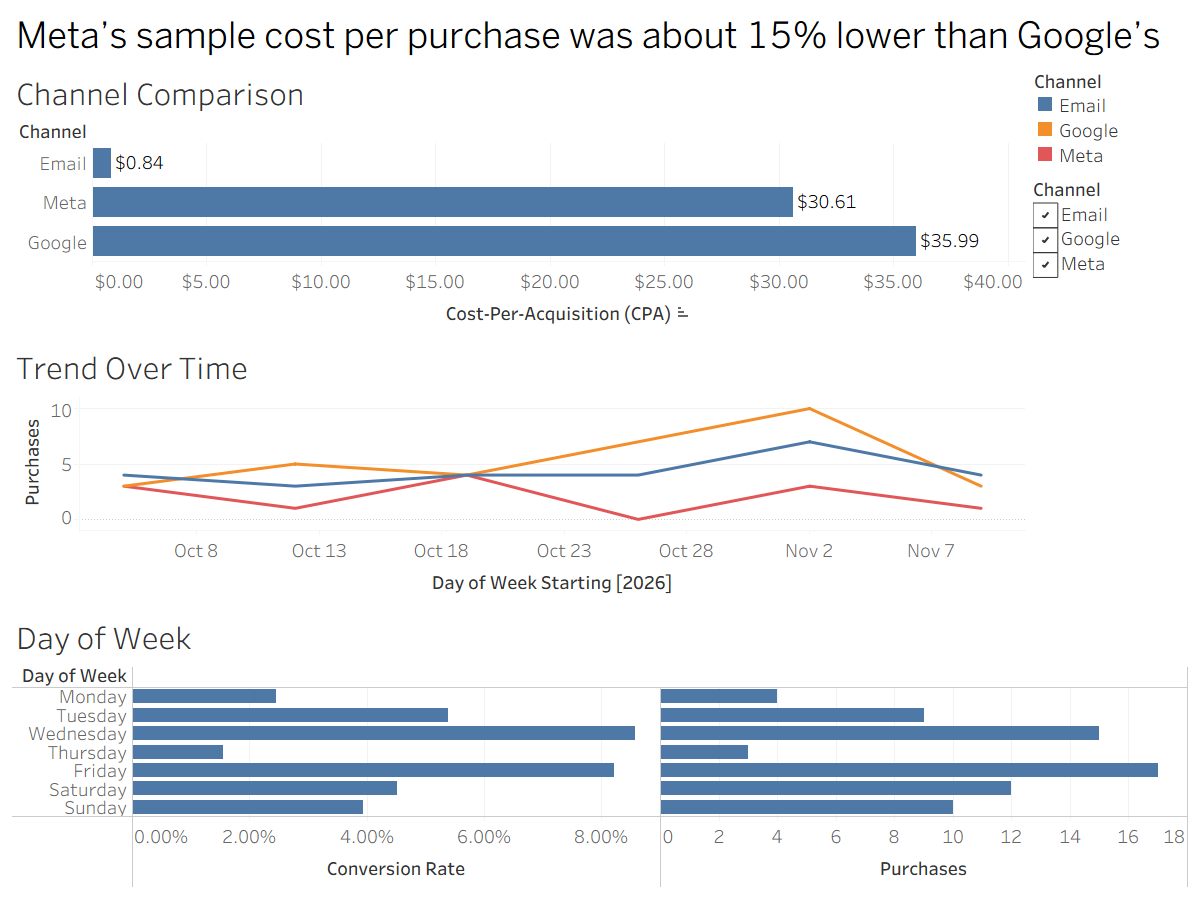

This screenshot's page, from the dashboard's own definition file:
{"tool":"tableau","page":{"name":"Rising Impact Dashboard","canvas":[1200,900],"ordinal":0},"visuals":[{"type":"title","box":[8,8,1184,54]},{"type":"worksheet","title":"Channel Comparison","mark":"Automatic","rows":["Channel"],"cols":["Calculation_3446483135225859"],"box":[8,62,1021,274.1]},{"type":"legend","title":"Trend Over Time","param":"[federated.1xit7qg0an67841brkthf1m3eqmd].[none:Channel:nk]","box":[1029,62,163,109]},{"type":"filter","title":"Channel Comparison","param":"[federated.1xit7qg0an67841brkthf1m3eqmd].[none:Channel:nk]","box":[1029,171,163,148]},{"type":"worksheet","title":"Trend Over Time","mark":"Automatic","rows":["Purchases"],"cols":["Week_Starting"],"box":[8,336.1,1021,269.5]},{"type":"worksheet","title":"Day of Week","mark":"Automatic","rows":["Day_of_Week"],"cols":["Calculation_3446483135107074","Purchases"],"box":[8,605.6,1184,286.4]}]}

Visuals, with their boxes in screenshot pixels (x1, y1, x2, y2), scaled from the page's 1200x900 canvas onto the 1200x900 screenshot:
title: <region>8, 8, 1192, 62</region>
"Channel Comparison" worksheet: <region>8, 62, 1029, 336</region>
"Trend Over Time" legend: <region>1029, 62, 1192, 171</region>
"Channel Comparison" filter: <region>1029, 171, 1192, 319</region>
"Trend Over Time" worksheet: <region>8, 336, 1029, 606</region>
"Day of Week" worksheet: <region>8, 606, 1192, 892</region>
